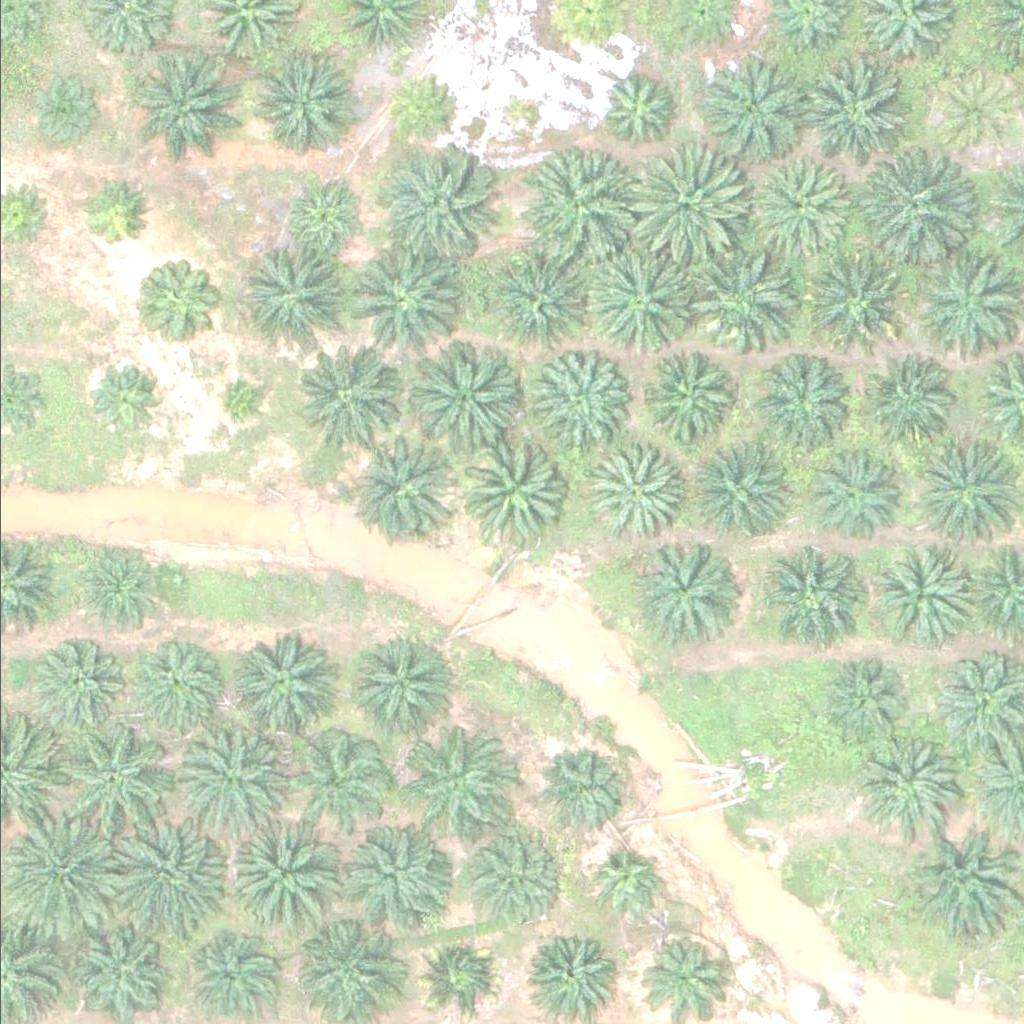Kelapa_Sawit: (2, 821, 115, 934), (113, 821, 226, 934), (231, 820, 344, 933), (346, 821, 459, 934), (171, 718, 284, 831), (406, 337, 519, 450), (289, 334, 402, 447), (525, 152, 638, 265), (377, 149, 490, 262), (906, 822, 1019, 935), (689, 242, 802, 355), (856, 149, 969, 262), (346, 241, 460, 353), (587, 245, 701, 357), (635, 147, 749, 259), (128, 54, 241, 166), (57, 725, 170, 837), (454, 433, 567, 545), (346, 430, 459, 542), (237, 246, 350, 358), (790, 56, 903, 168), (697, 51, 810, 163), (255, 56, 356, 156), (61, 920, 162, 1020), (401, 722, 502, 822), (289, 728, 390, 828), (135, 634, 236, 734), (227, 634, 328, 734), (353, 640, 454, 740), (629, 537, 730, 637), (580, 444, 681, 544), (635, 342, 736, 442), (527, 349, 628, 449), (857, 731, 958, 831), (871, 540, 972, 640), (747, 158, 848, 258), (467, 829, 567, 929), (34, 637, 134, 737), (679, 442, 779, 542), (490, 256, 590, 356), (762, 546, 862, 646), (803, 442, 903, 542), (758, 354, 858, 454), (862, 351, 962, 451), (912, 257, 1012, 357), (799, 249, 899, 349), (276, 173, 364, 261), (538, 744, 626, 832), (139, 258, 227, 346), (928, 68, 1016, 156), (634, 935, 722, 1022), (529, 931, 617, 1018), (83, 356, 171, 443), (411, 931, 499, 1018), (190, 928, 278, 1015), (80, 543, 168, 630), (591, 63, 679, 150), (822, 657, 910, 744), (386, 70, 462, 145), (24, 73, 100, 148), (584, 847, 660, 922), (75, 178, 150, 253), (206, 375, 256, 425)
